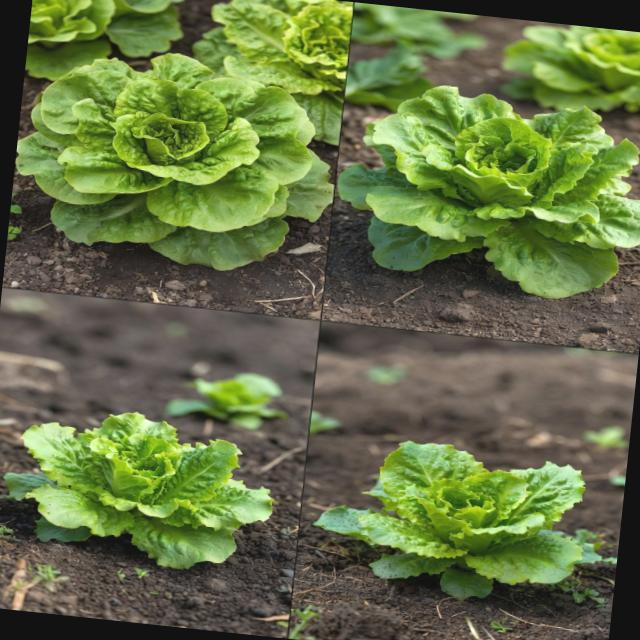inmadura: (314, 441, 599, 598), (4, 412, 272, 568)
lista_para_cosechar: (15, 53, 332, 269), (338, 85, 640, 297)
